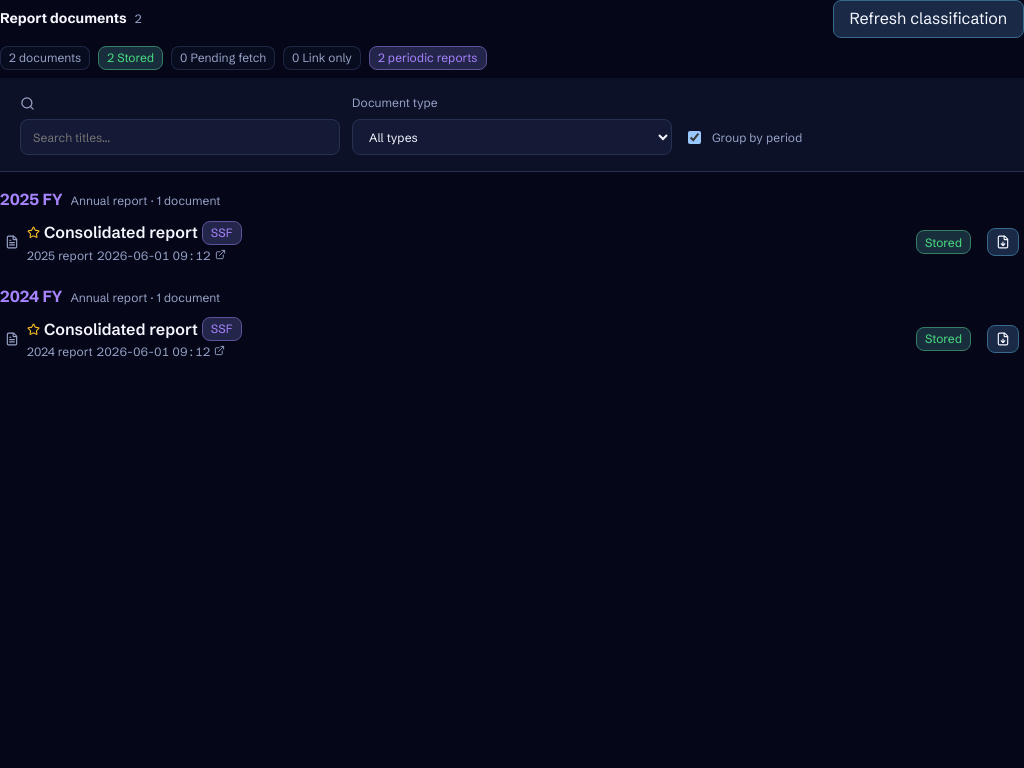
CompanyReportDocumentsPanel › falls back to a flat list when grouping is turned off
Expected: the text "2025 report" is shown, [27,247,93,264]
Expected: the text "2025 FY" is shown, [0,188,62,212]
Click the checkbox labelled "Group by period".
click(694, 137)  # box [688,131,701,144]
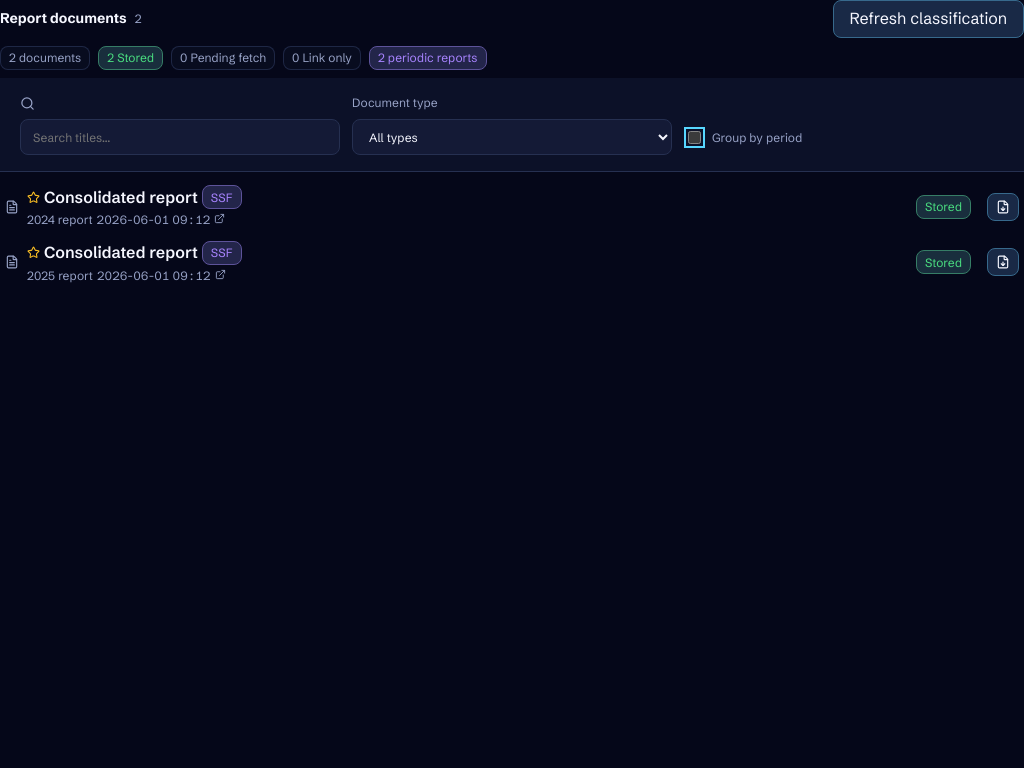
Result: no elements with class "doc-grp-label" are shown
Result: the list with class "doc-rows-flat" is shown at [0,180,1023,289]
Result: the text "2024 report" is shown at [27,211,93,229]
